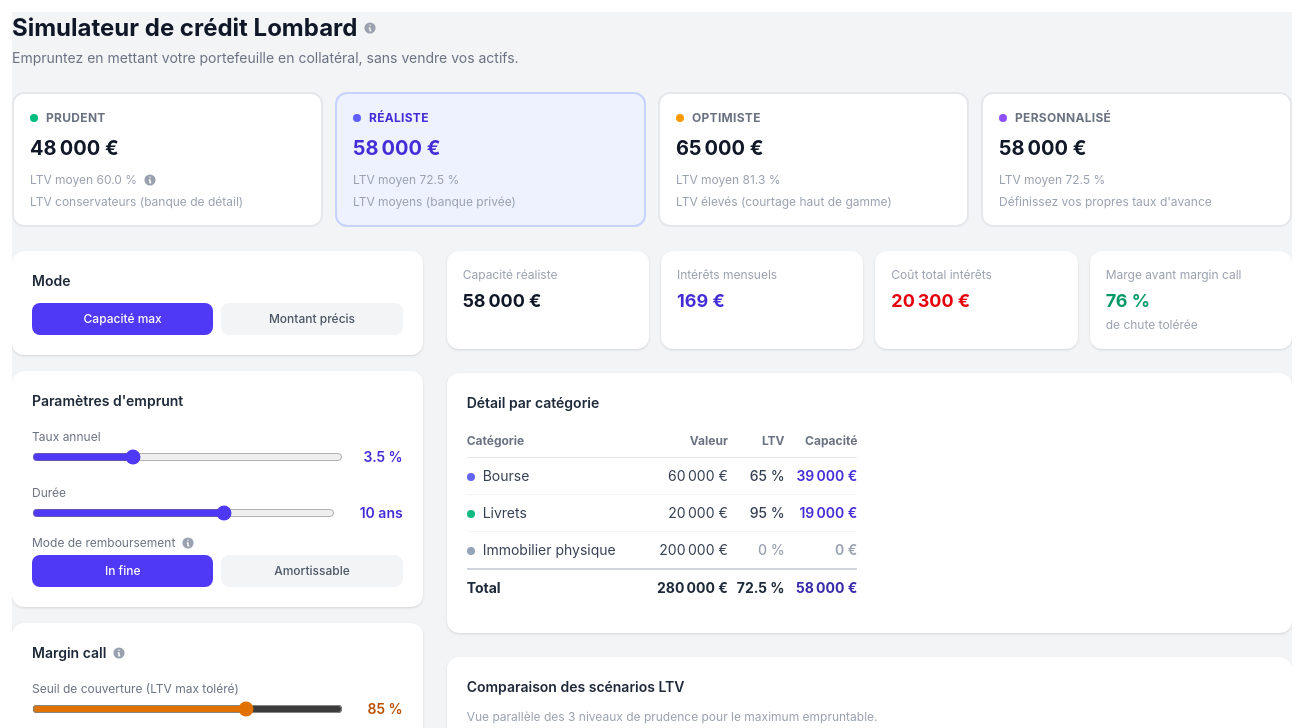
Scenario: LombardSimulatorPage › bascule en mode "Montant précis" et affiche l'input
Check: the heading "Mode" is shown, box [32, 272, 70, 289]
Click the button "Montant précis". click: point(312, 319)
box: [221, 303, 403, 335]
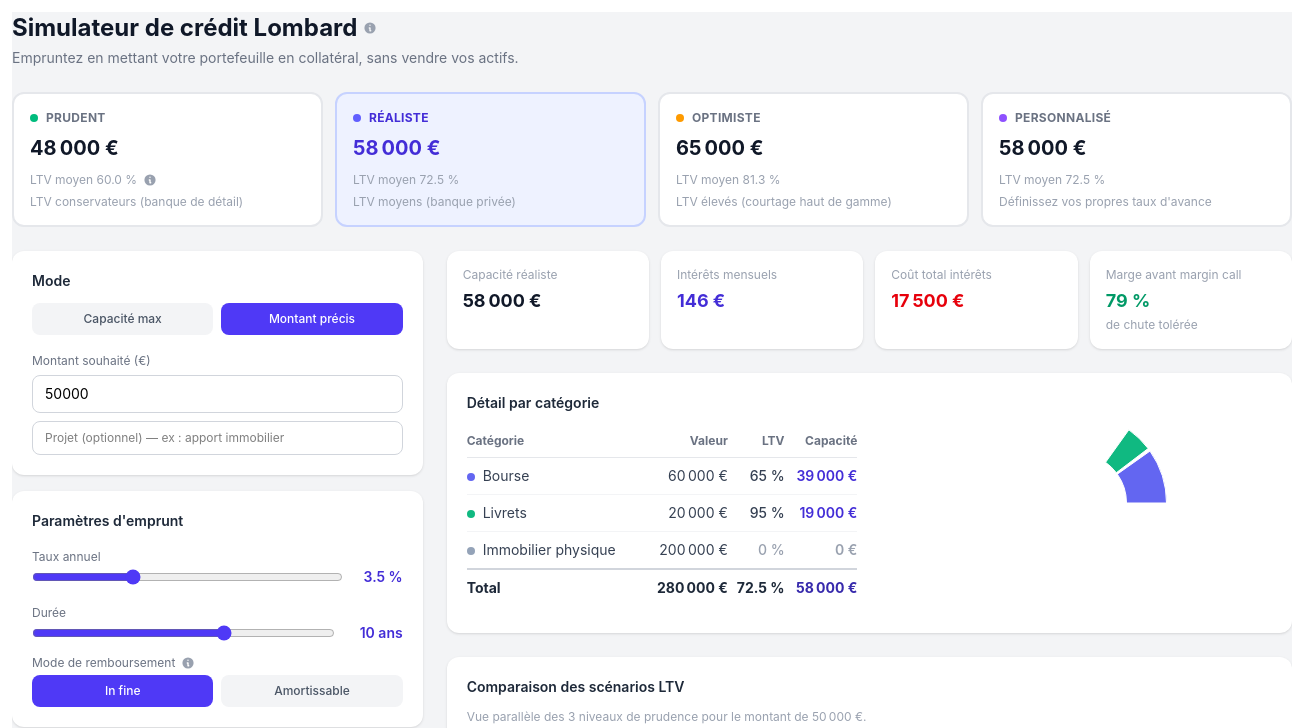
Check: the text "Montant souhaité (€)" is shown, box [32, 353, 150, 368]
